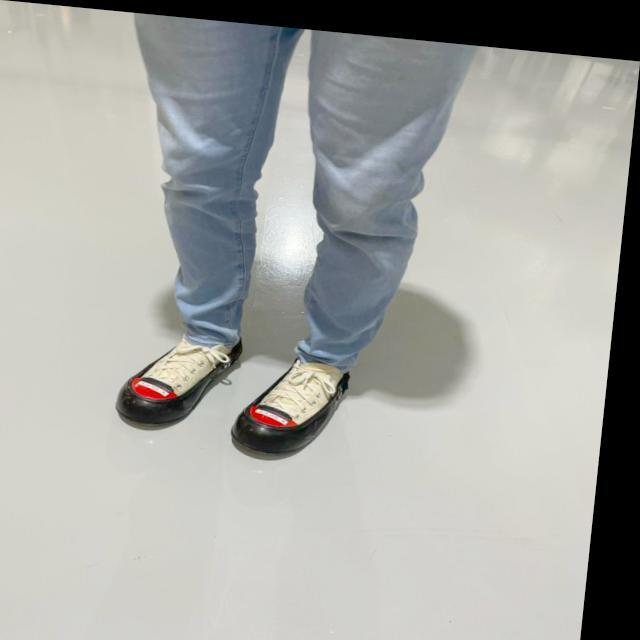shoes: (110, 325, 247, 436), (222, 356, 366, 461)
